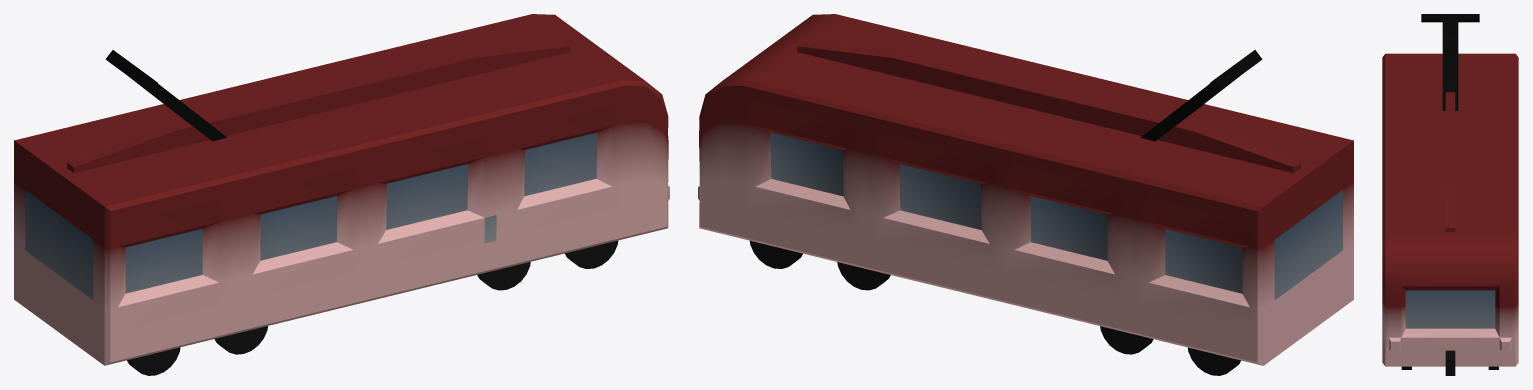
File: SM_Props_Train_02.fbx
3 views of the same model, side by side, from view 1: azimuth 30°, elevation 25°; view 2: azimuth 150°, elevation 25°; view 3: azimuth 270°, elevation 25° (orthographic). The views are drawn at different scales.
Visible parts, largest first — view 1: matchsize45; view 2: matchsize45; view 3: matchsize45.
Boxes of the visible parts, box(x1,y1,x2,y2) form: matchsize45: box(14, 14, 669, 375); matchsize45: box(698, 14, 1353, 375); matchsize45: box(1382, 14, 1518, 375).
Bounding box in the file's own units: 6.27 × 2.88 × 1.74.
